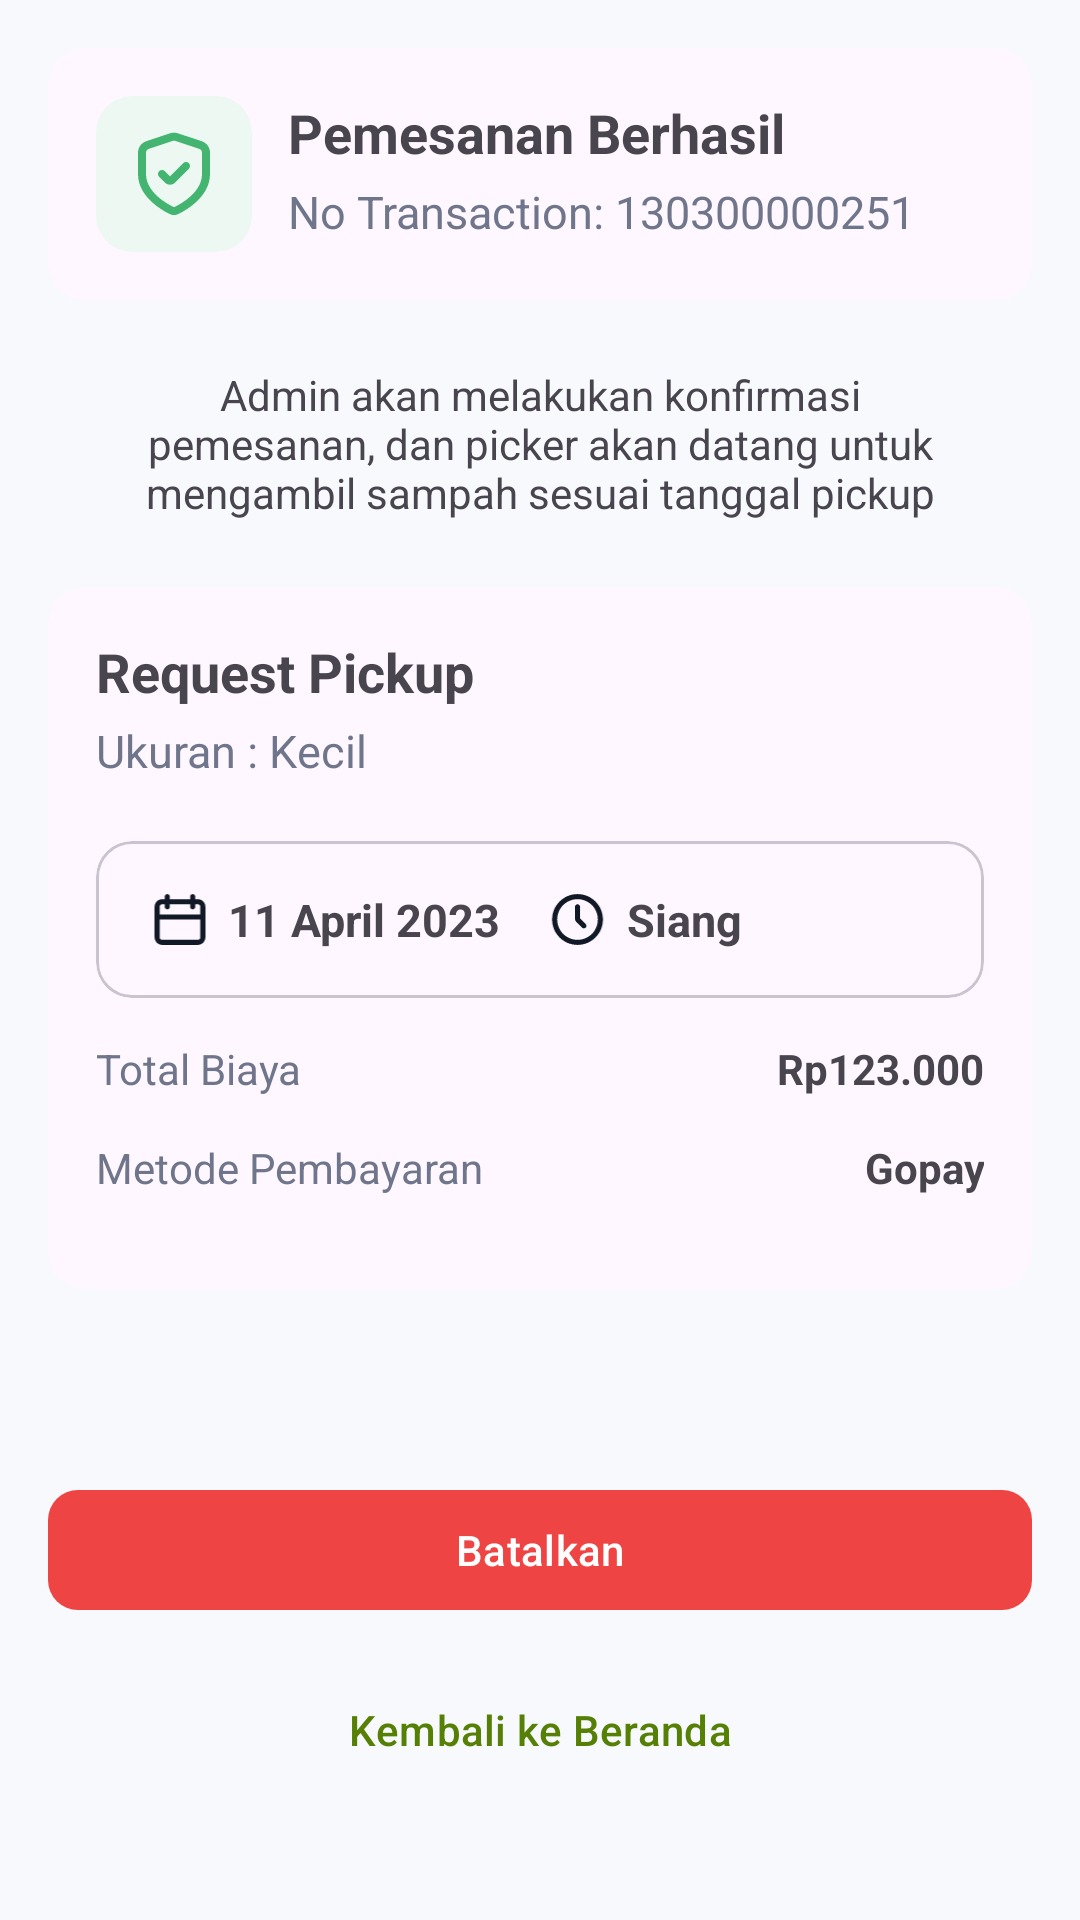

Icons on this 1080 x 1920 Android screen, each with its box as [x1,y1,x2,y2]:
ikon jam: [551,894,604,945]
ikon kalender: [154,894,206,945]
ikon sukses: [96,96,252,252]
